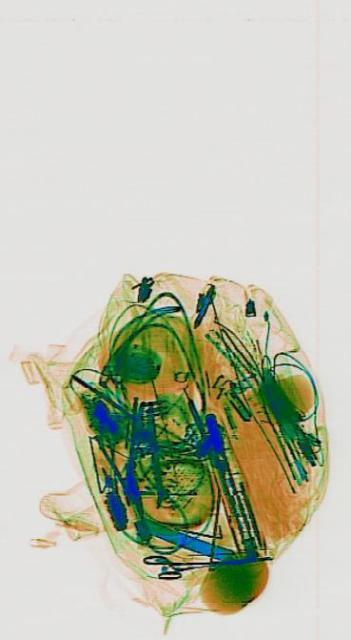Scissors: (140, 541, 271, 581)
